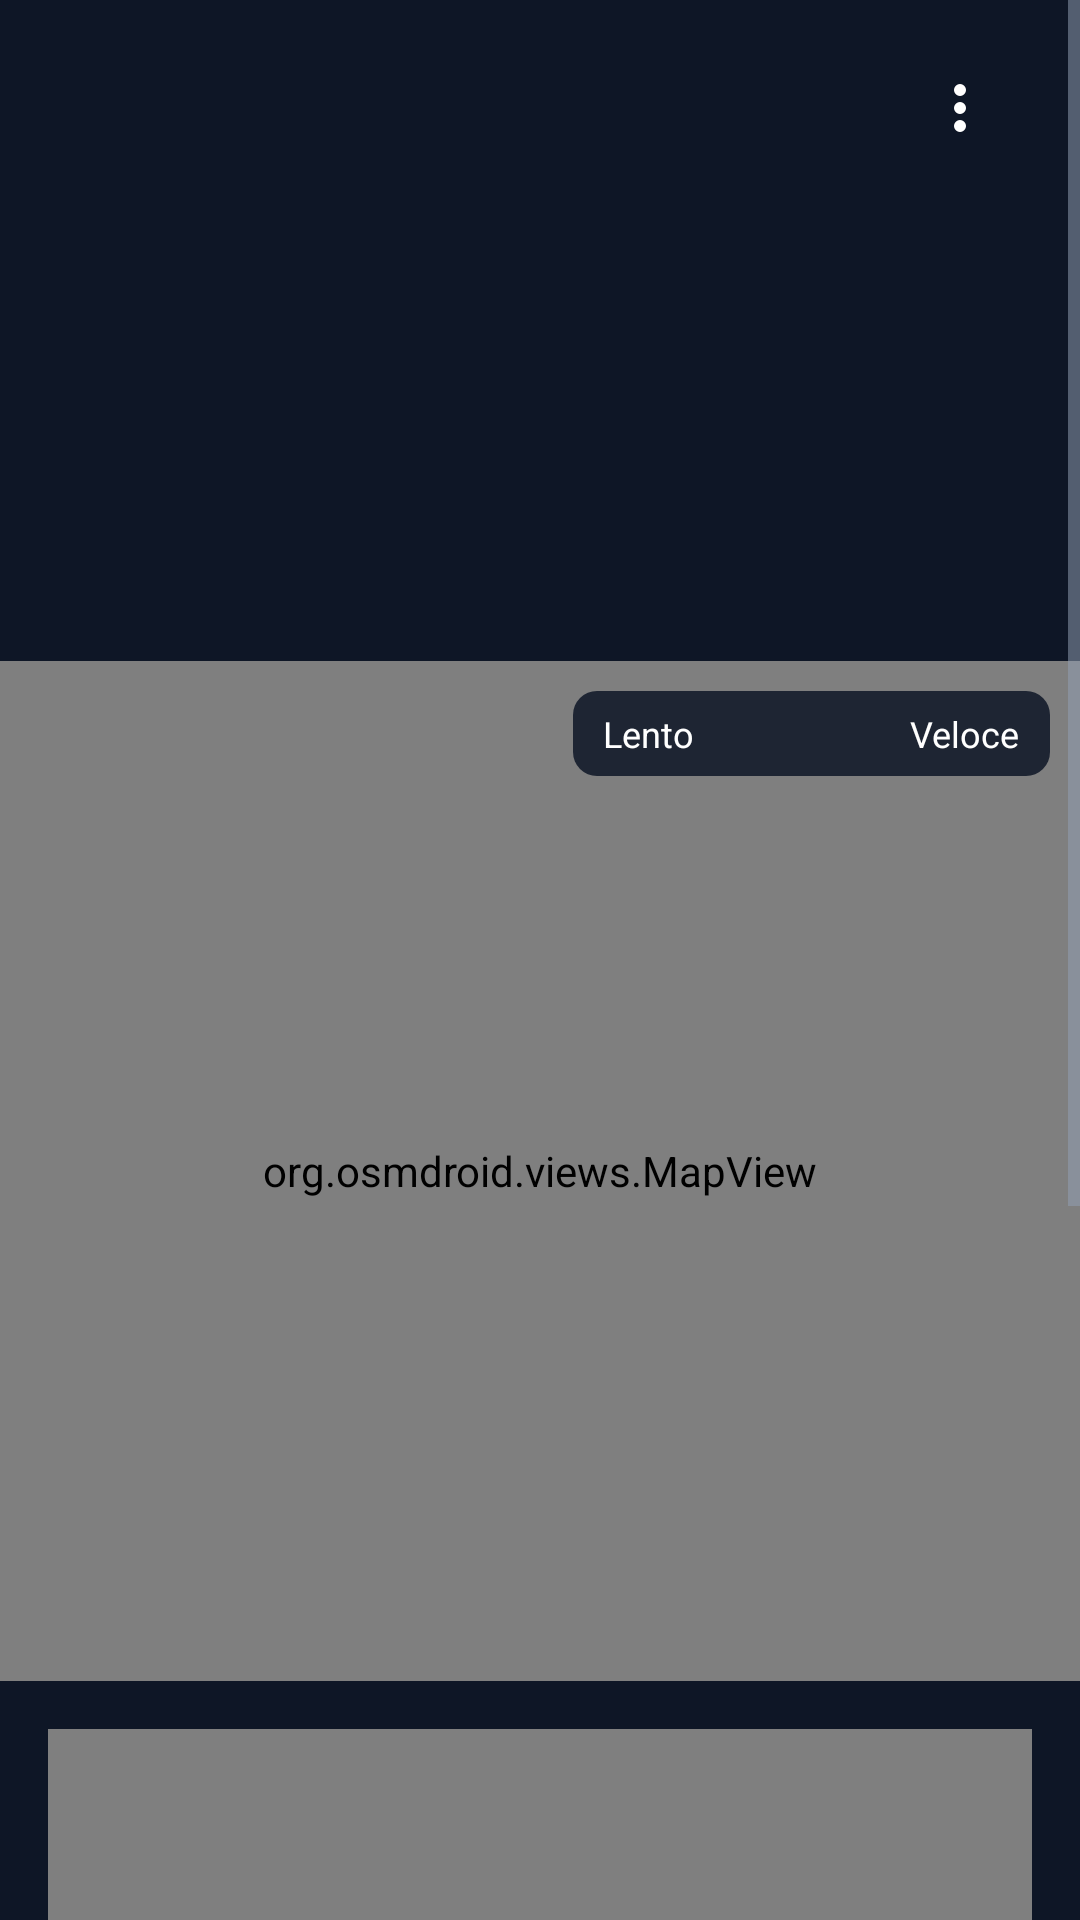

Where icons sit on this 1080 x 1920 app screen, as (x1, y1, x2, y2):
Altre azioni: (954, 84, 966, 132)
